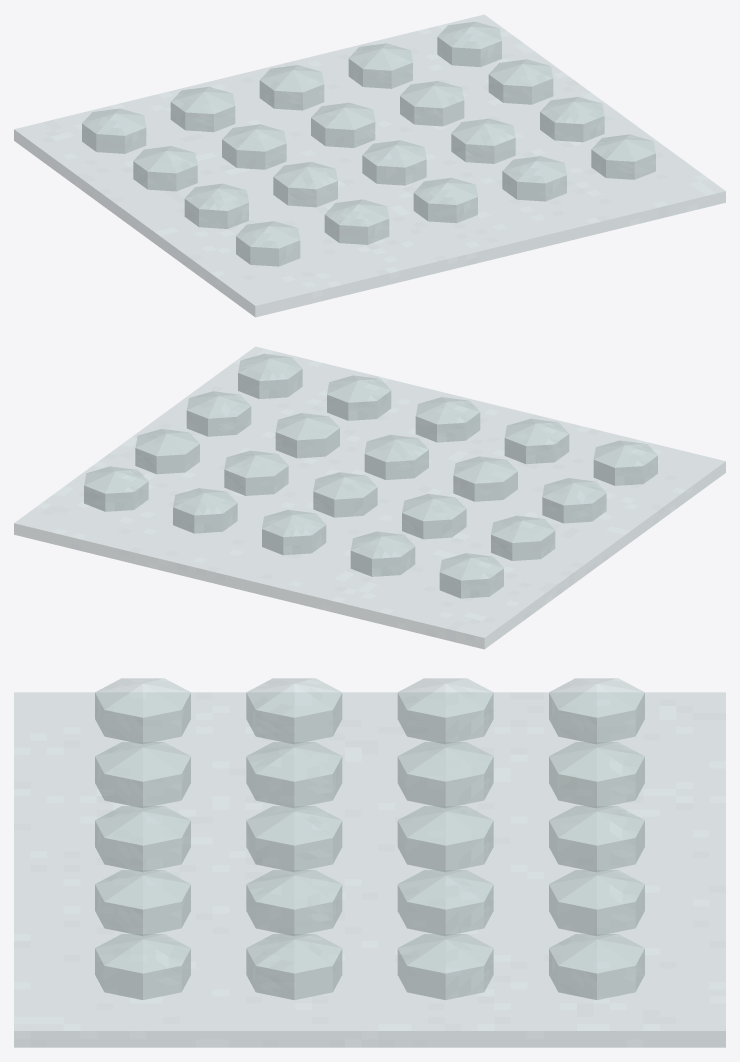
File: bubblewrap.glb
3 views of the same model, one above another, from view 1: azimuth 30°, elevation 25°; view 2: azimuth 150°, elevation 25°; view 3: azimuth 270°, elevation 25° (orthographic). The views are drawn at different scales.
Visible parts, largest first — view 1: block_film, block_inflated cell (×20); view 2: block_film, block_inflated cell (×20); view 3: block_film, block_inflated cell (×20).
Part boxes in pixels (bbox=[...]): block_film: bbox=[14, 14, 725, 317]; block_inflated cell (×20): bbox=[82, 21, 655, 266]; block_film: bbox=[14, 346, 725, 649]; block_inflated cell (×20): bbox=[84, 353, 657, 598]; block_film: bbox=[14, 692, 725, 1047]; block_inflated cell (×20): bbox=[95, 678, 644, 999].
Bounding box in the file's own units: 0.114 × 0.0105 × 0.1014.
Materials: 1 (1 with a texture image).
